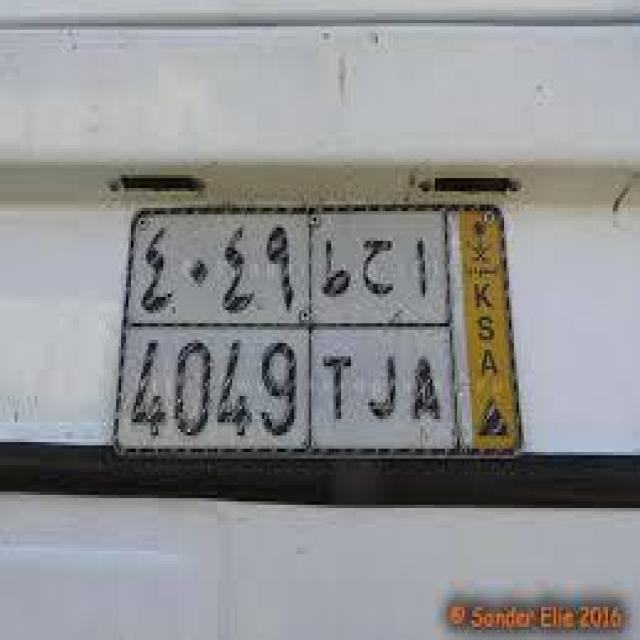license_plate: (84, 155, 516, 469)
